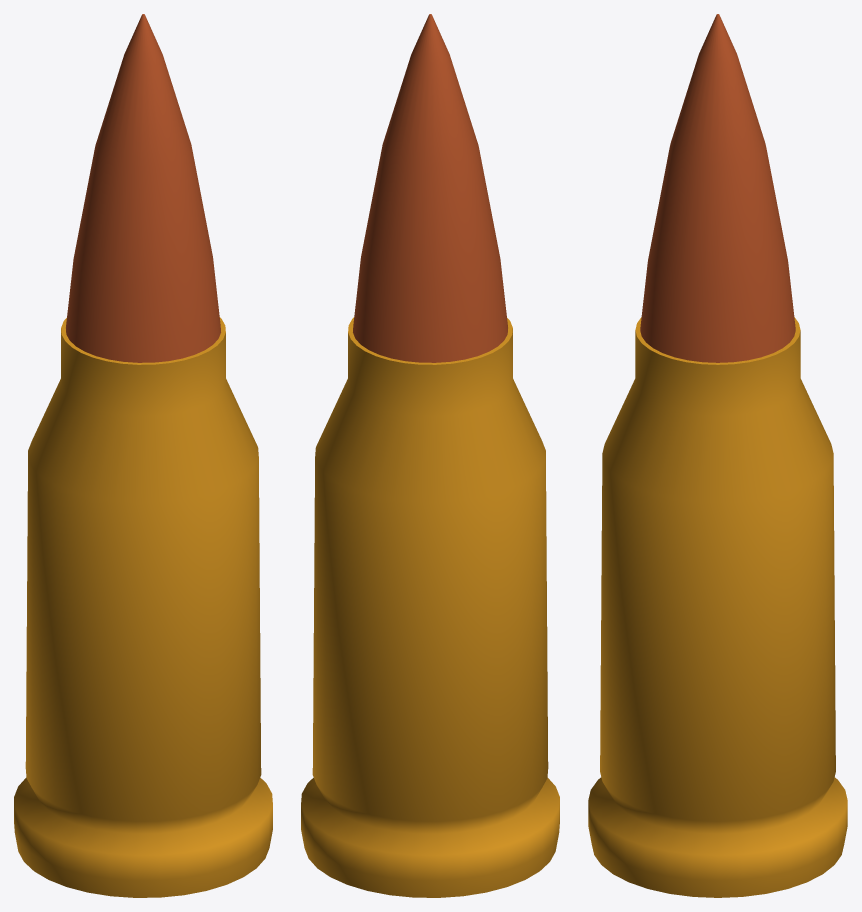
File: ammo-rifle.glb
The picture shows the model from 3 angles, left to right: view 1: azimuth 30°, elevation 25°; view 2: azimuth 150°, elevation 25°; view 3: azimuth 270°, elevation 25°; orthographic projection.
Visible parts, largest first — view 1: ammo-rifle-surfaces; view 2: ammo-rifle-surfaces; view 3: ammo-rifle-surfaces.
Part boxes in pixels (x1,y1,x2,y2): ammo-rifle-surfaces: [14, 14, 272, 897]; ammo-rifle-surfaces: [301, 14, 559, 897]; ammo-rifle-surfaces: [588, 14, 847, 897].
Size of the model in its own units: 0.187 by 0.661 by 0.187.
3 materials, 3 textured.
